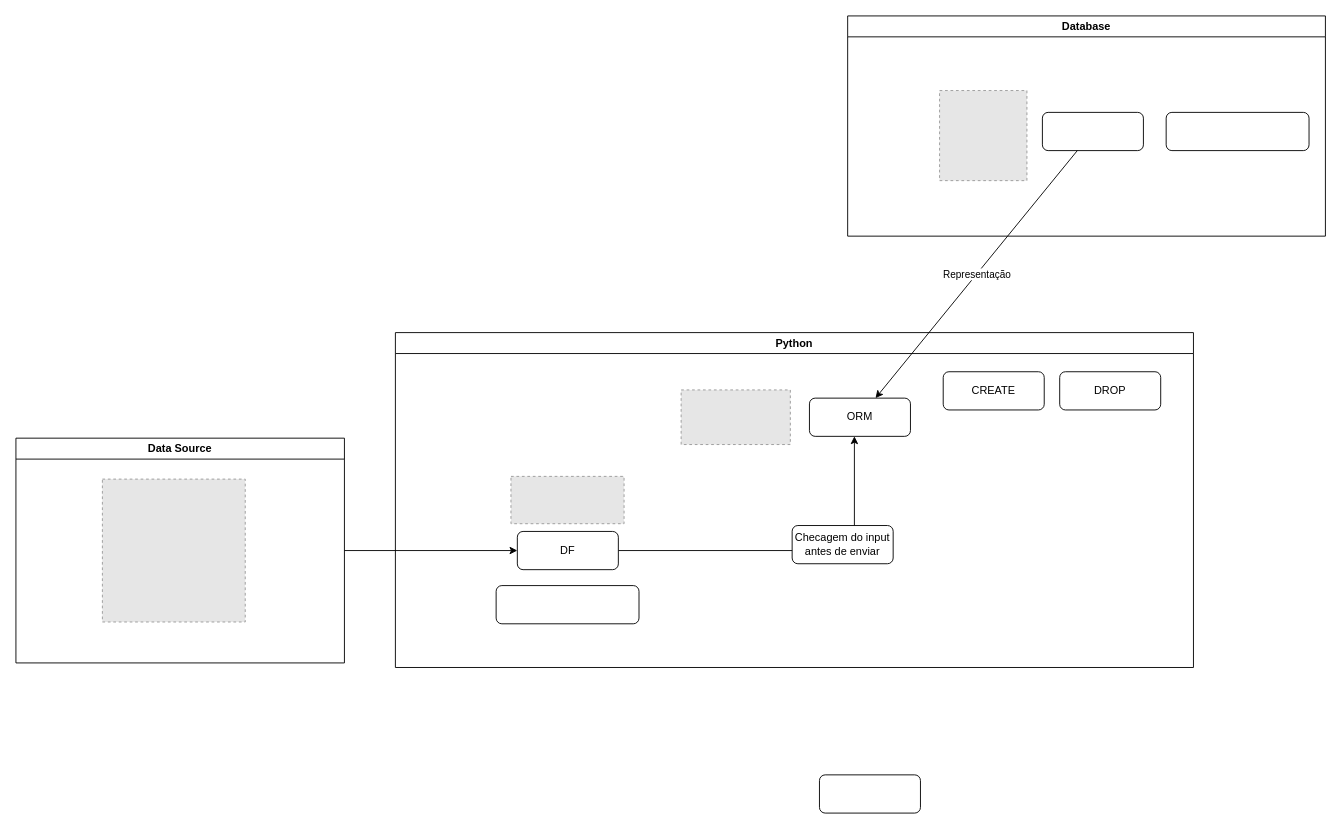
The diagram is 1341 pixels wide and 829 high, and some of its shapes have lost their labels. Grey dashed boxes stand in for pictures. Here are the shapes that lost their labels. From the top down, the centre of each, then its label:
point (1092, 131): Table
point (1237, 131): Objeto físico dos dados
point (567, 604): Ambiente de tratamento de dados
point (869, 793): ORM tem metadado da tabela que pode ser utilizadas
